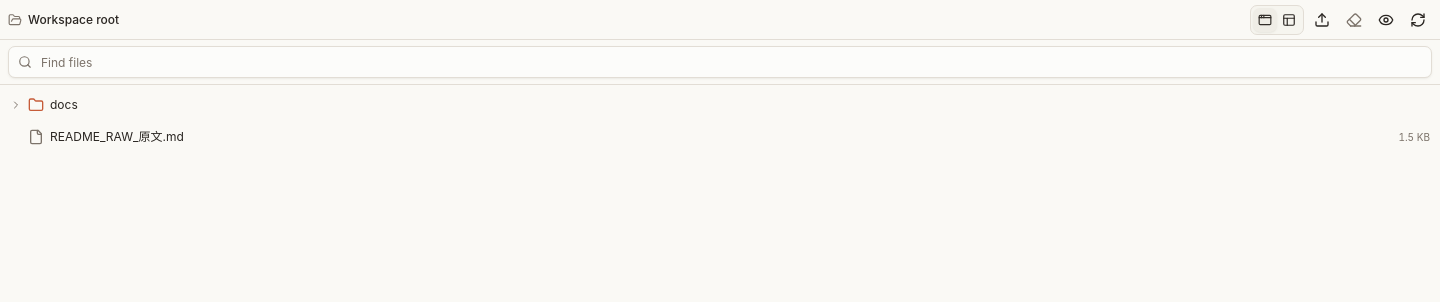
Test: WorkspaceFilesTab › opens a row context menu without changing the current selection
Step 1. Click the button "docs" → click(16, 105), box left=4, top=89, right=1436, bottom=121
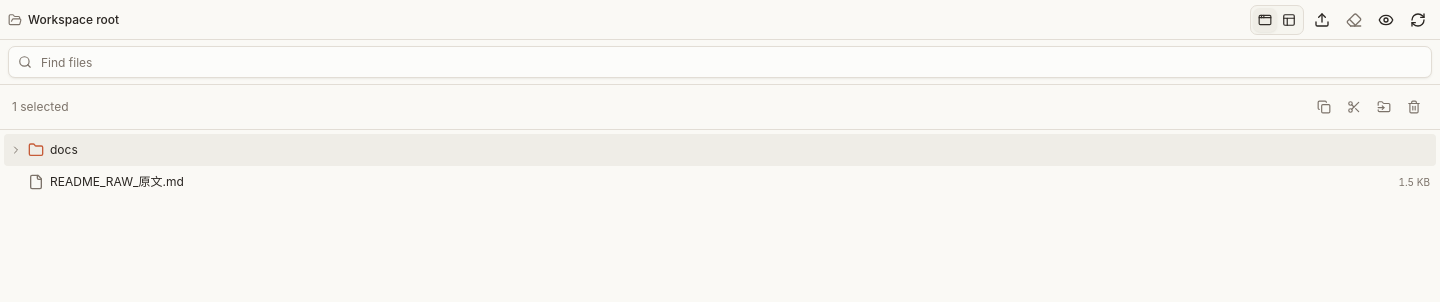
Step 2. Right-click the list item "README_RAW_原文.md" → (720, 182), box left=4, top=166, right=1436, bottom=198
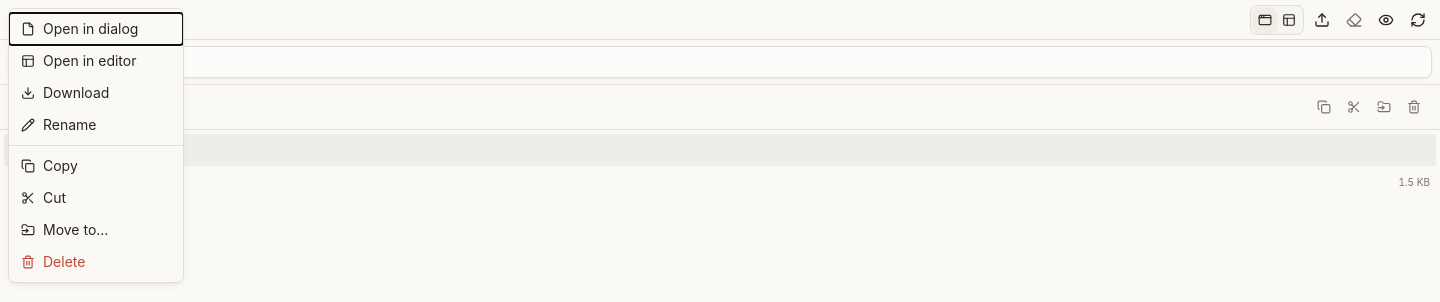
Expected: the menu named "File actions" is shown, left=8, top=8, right=184, bottom=283
Expected: the menu item "Open in dialog" is shown, left=9, top=13, right=183, bottom=45
